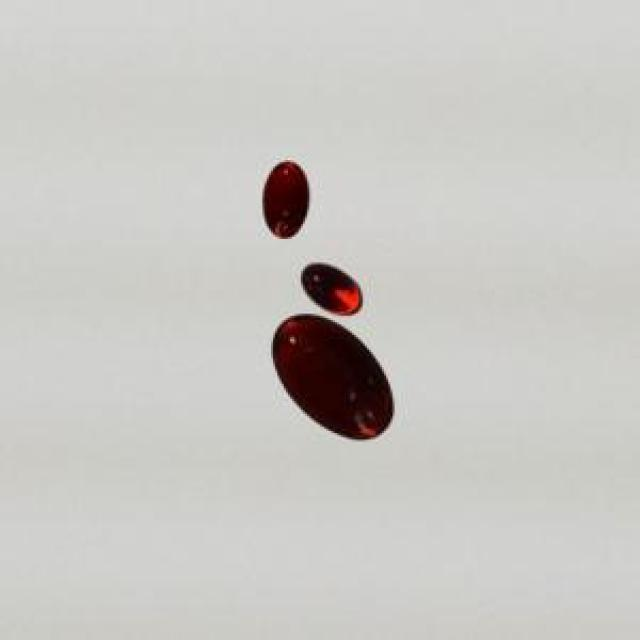Medicol: (254, 258, 406, 443), (245, 142, 324, 245)
